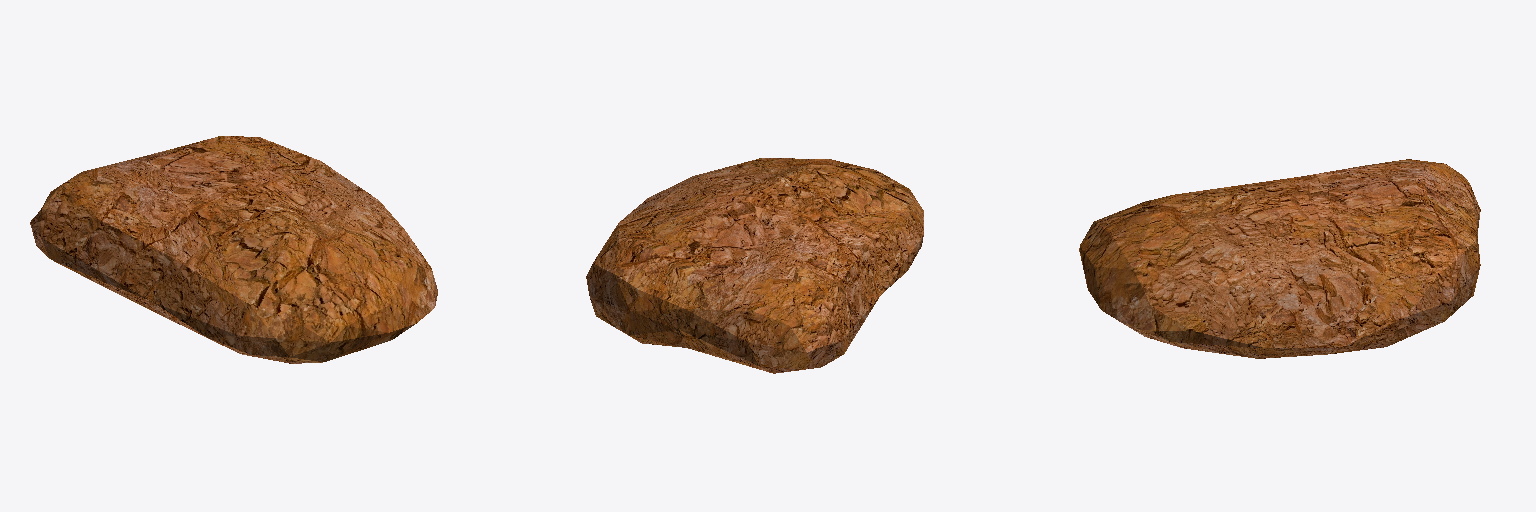
3 views of the same model, side by side, from view 1: azimuth 30°, elevation 25°; view 2: azimuth 150°, elevation 25°; view 3: azimuth 270°, elevation 25° (orthographic).
Visible parts, largest first — view 1: rocksquare96; view 2: rocksquare96; view 3: rocksquare96.
Boxes of the visible parts, <box> form: rocksquare96: <box>30,136,437,363</box>; rocksquare96: <box>586,158,923,373</box>; rocksquare96: <box>1079,159,1480,358</box>.
Size of the model in its own units: 2.92 by 1.22 by 3.52.
Materials: 1 (1 with a texture image).